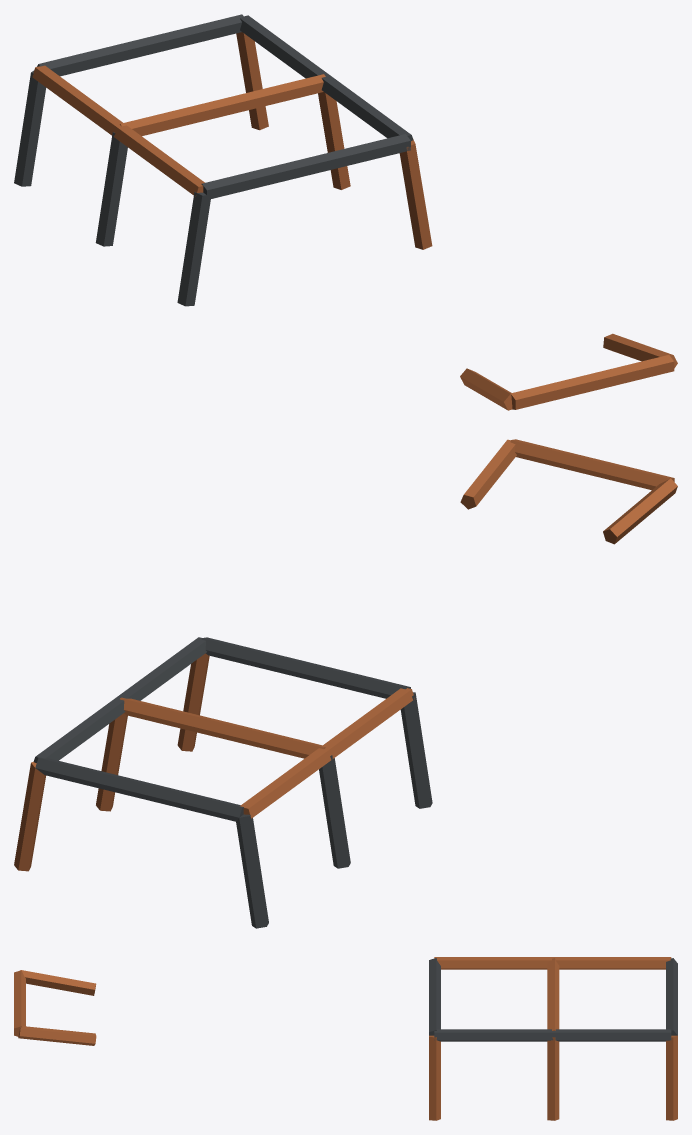
The model's file is upg_cage_t1.glb.
3 views of the same model, one above another, from view 1: azimuth 30°, elevation 25°; view 2: azimuth 150°, elevation 25°; view 3: azimuth 270°, elevation 25° (orthographic). The views are drawn at different scales.
Visible parts, largest first — view 1: cage; view 2: cage; view 3: cage.
Part boxes in pixels (<box>): cage: <box>14,14,677,410</box>; cage: <box>14,439,677,928</box>; cage: <box>14,957,677,1120</box>.
Size of the model in its own units: 0.8925 by 0.391 by 2.8.
